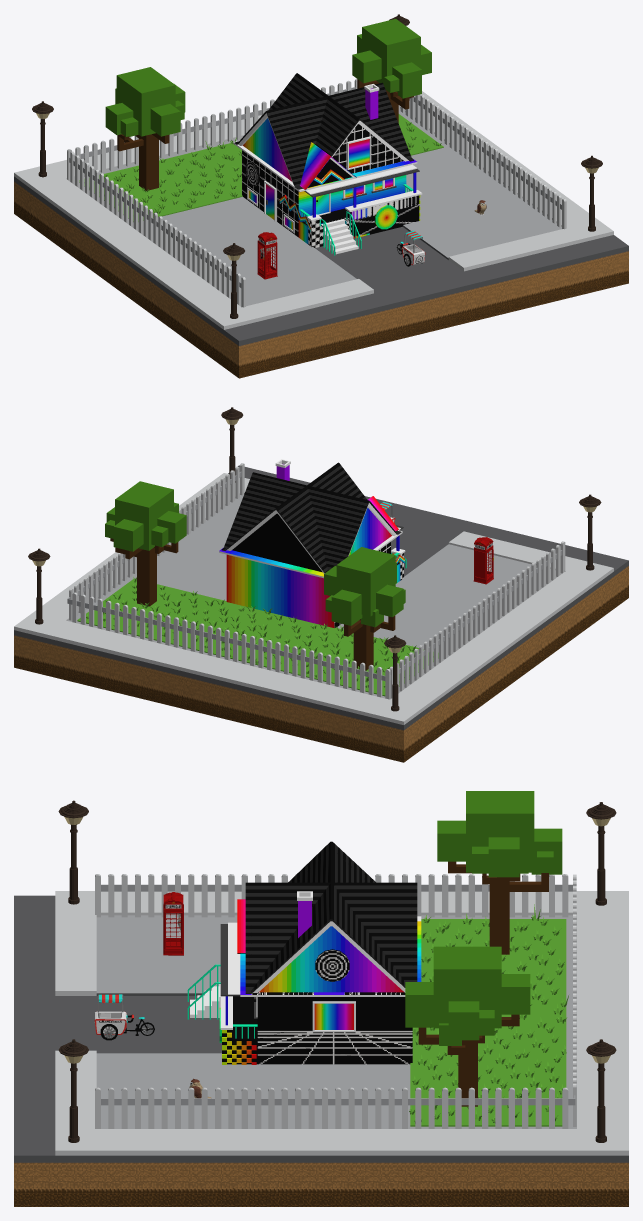
The picture shows the model from 3 angles, top to bottom: view 1: azimuth 30°, elevation 25°; view 2: azimuth 150°, elevation 25°; view 3: azimuth 270°, elevation 25°; orthographic projection. The views are drawn at different scales.
Visible parts, largest first — view 1: Cube.004, Cube.1320, OBJRANDOM_PHONEBOOTH, VEHICLES_SNOWBAL_BIKE; view 2: Cube.004, Cube.1320, OBJRANDOM_PHONEBOOTH; view 3: Cube.004, Cube.1320, VEHICLES_SNOWBAL_BIKE, OBJRANDOM_PHONEBOOTH.
Part boxes in pixels (x1,y1,x2,y2): Cube.004: [14, 14, 628, 378]; Cube.1320: [233, 73, 422, 255]; OBJRANDOM_PHONEBOOTH: [257, 232, 277, 279]; VEHICLES_SNOWBAL_BIKE: [396, 230, 425, 266]; Cube.004: [14, 407, 628, 762]; Cube.1320: [219, 459, 406, 627]; OBJRANDOM_PHONEBOOTH: [473, 537, 493, 584]; Cube.004: [14, 791, 628, 1206]; Cube.1320: [187, 841, 421, 1064]; VEHICLES_SNOWBAL_BIKE: [94, 994, 154, 1040]; OBJRANDOM_PHONEBOOTH: [163, 892, 183, 955].
Bounding box in the file's own units: 4000 × 1600 × 4000.
Materials: 38 (5 with a texture image).
